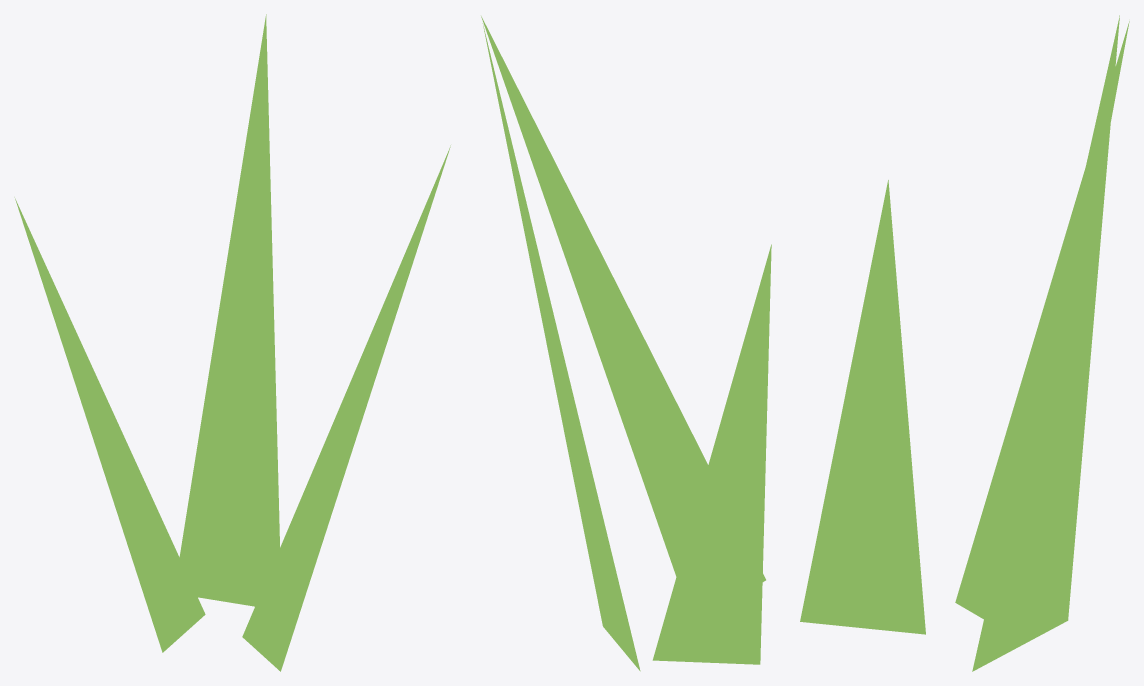
File: Grass_c_OneS_02.fbx
3 renders of one model, left to right at view 1: azimuth 30°, elevation 25°; view 2: azimuth 150°, elevation 25°; view 3: azimuth 270°, elevation 25°, orthographic. The views are drawn at different scales.
Parts seen in each view (by area): view 1: Grass_c_OneS_02; view 2: Grass_c_OneS_02; view 3: Grass_c_OneS_02.
Part boxes in pixels (left/top/right/bottom): Grass_c_OneS_02: left=14, top=14, right=450, bottom=671; Grass_c_OneS_02: left=481, top=16, right=771, bottom=671; Grass_c_OneS_02: left=800, top=15, right=1129, bottom=671.
Bounding box in the file's own units: 0.3735 × 0.5751 × 0.2483.
